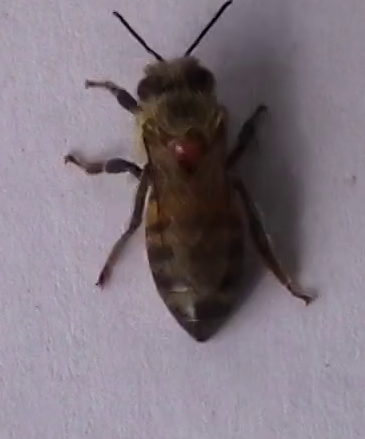Varroa destructor: (168, 133, 208, 170)
